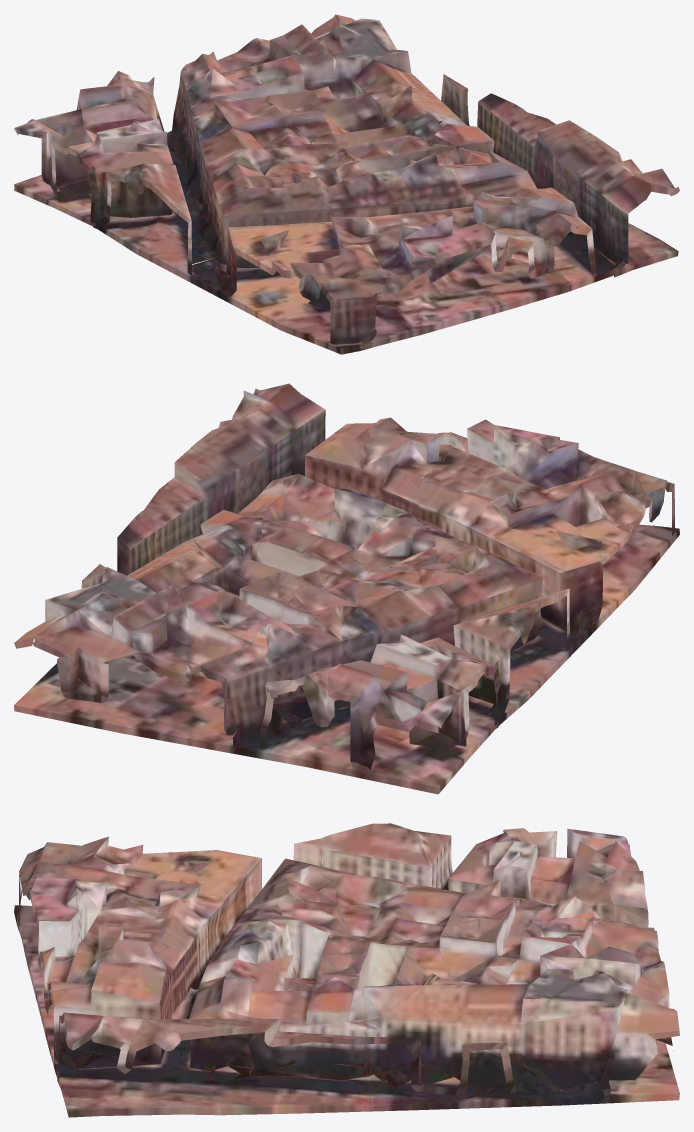
The picture shows the model from 3 angles, top to bottom: view 1: azimuth 30°, elevation 25°; view 2: azimuth 150°, elevation 25°; view 3: azimuth 270°, elevation 25°; orthographic projection. The views are drawn at different scales.
Visible parts, largest first — view 1: Mesh_0; view 2: Mesh_0; view 3: Mesh_0.
Boxes of the visible parts, bbox=[...] form: Mesh_0: bbox=[14, 14, 679, 354]; Mesh_0: bbox=[14, 383, 679, 794]; Mesh_0: bbox=[14, 823, 679, 1117].
Bounding box in the file's own units: 134 × 32.86 × 165.
Materials: 1 (1 with a texture image).
